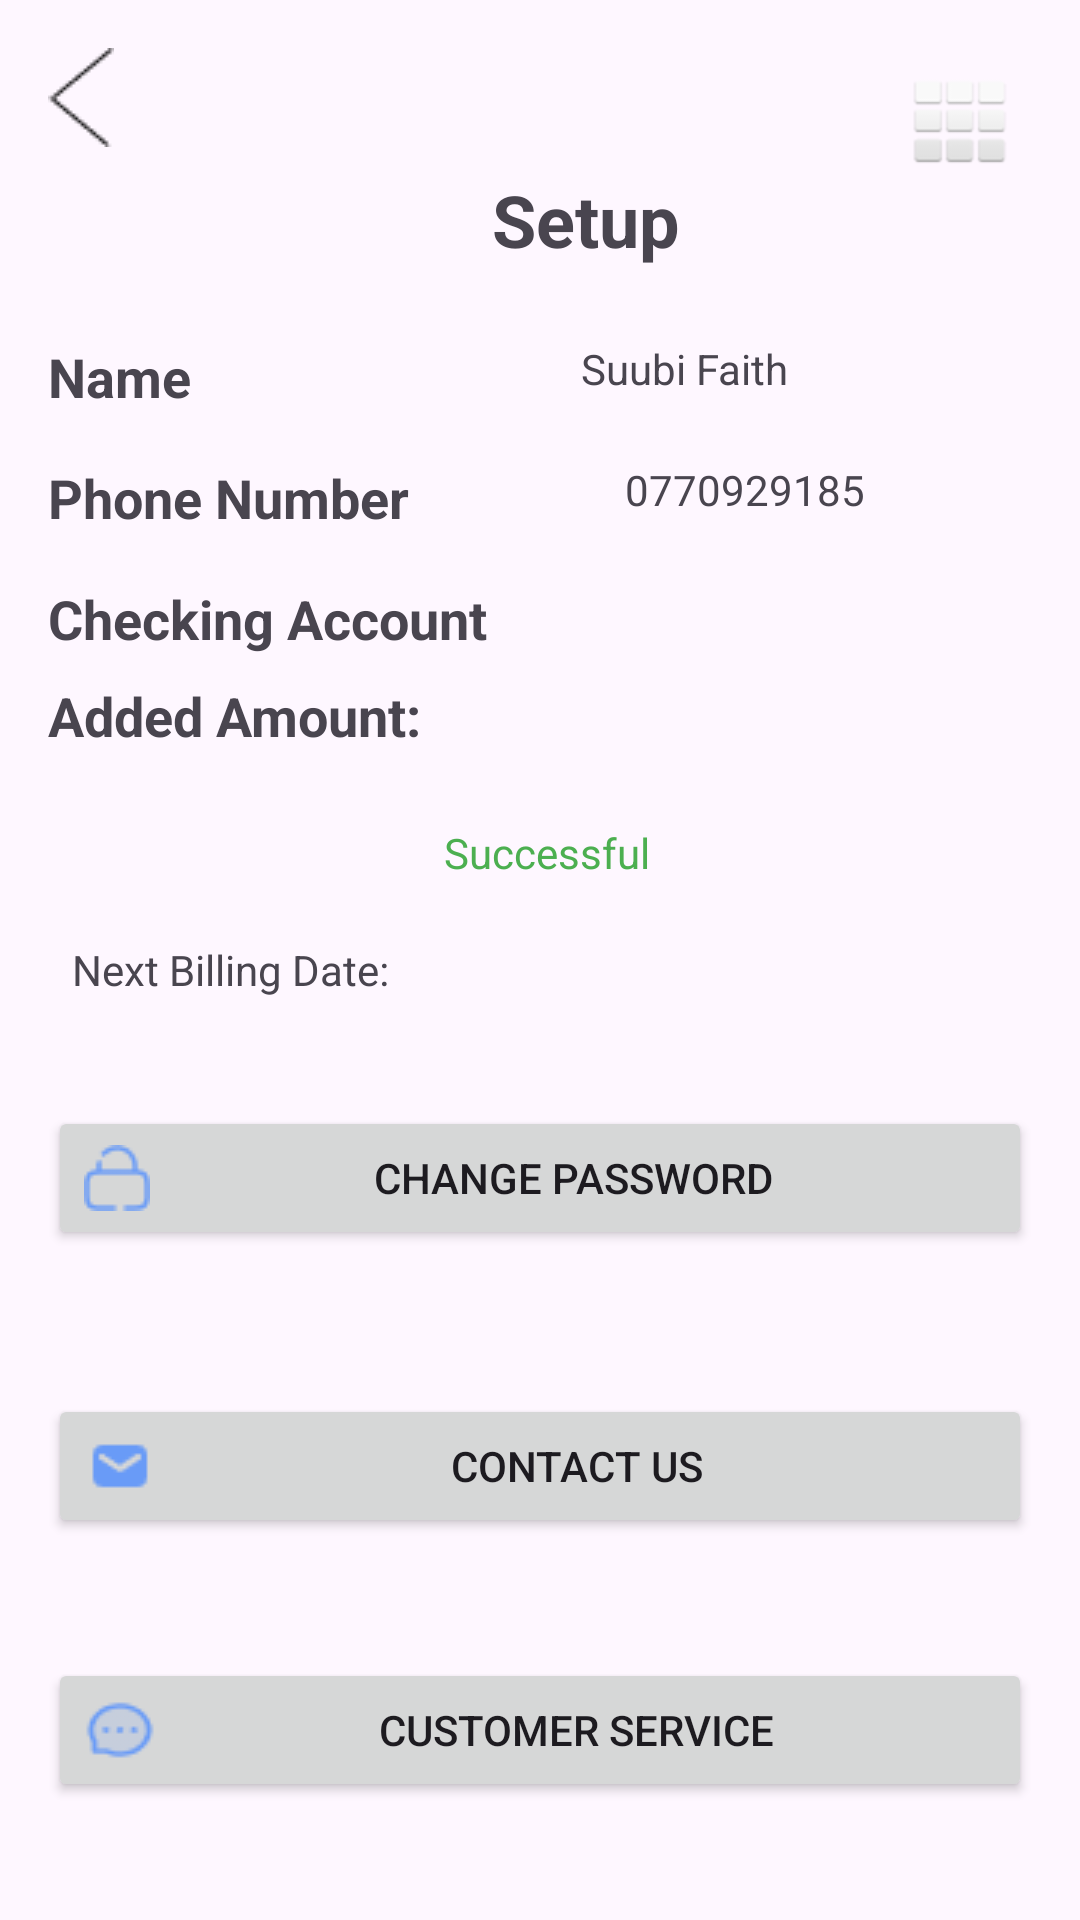

Named icons in this screenshot (1080*1920) and their bounding boxes, (x1, y1, x2, y2):
Back: (48, 48, 114, 147)
